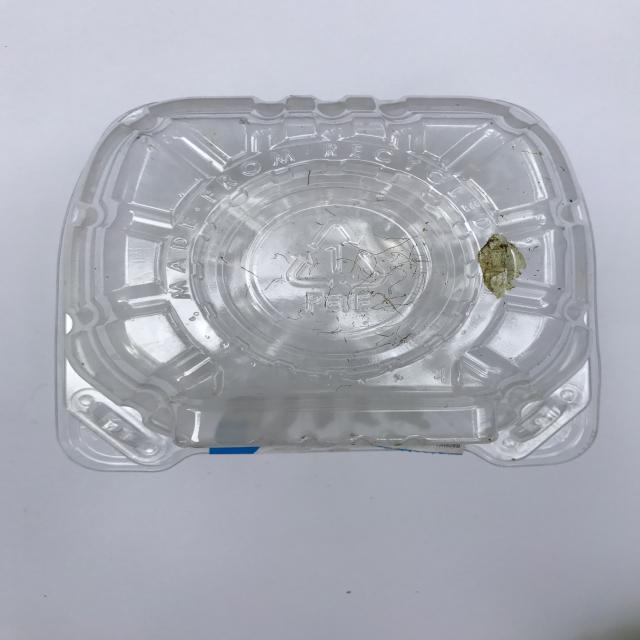plastic: (54, 94, 601, 472)
